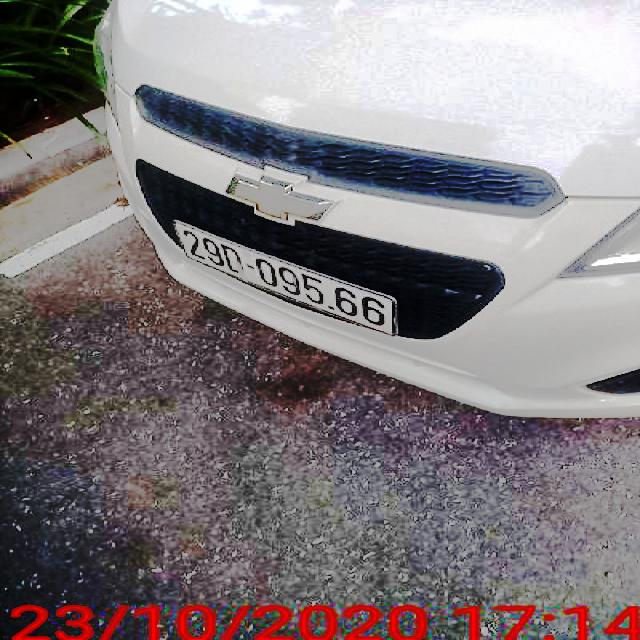license_plate: (181, 221, 397, 342)
